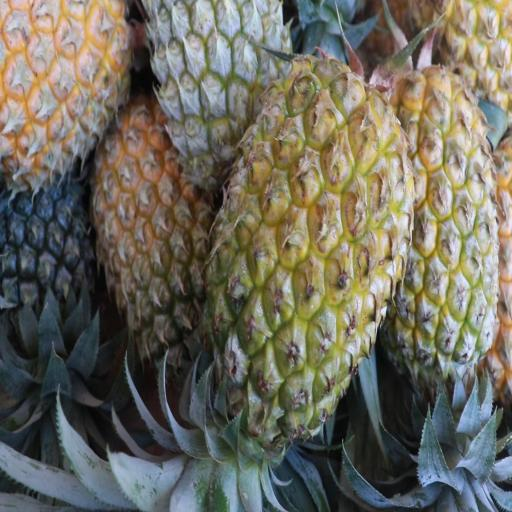------------------------------: (98, 109, 214, 368)
Pineapple - v8 v1: (204, 64, 406, 420), (378, 54, 498, 368), (0, 0, 131, 167)
